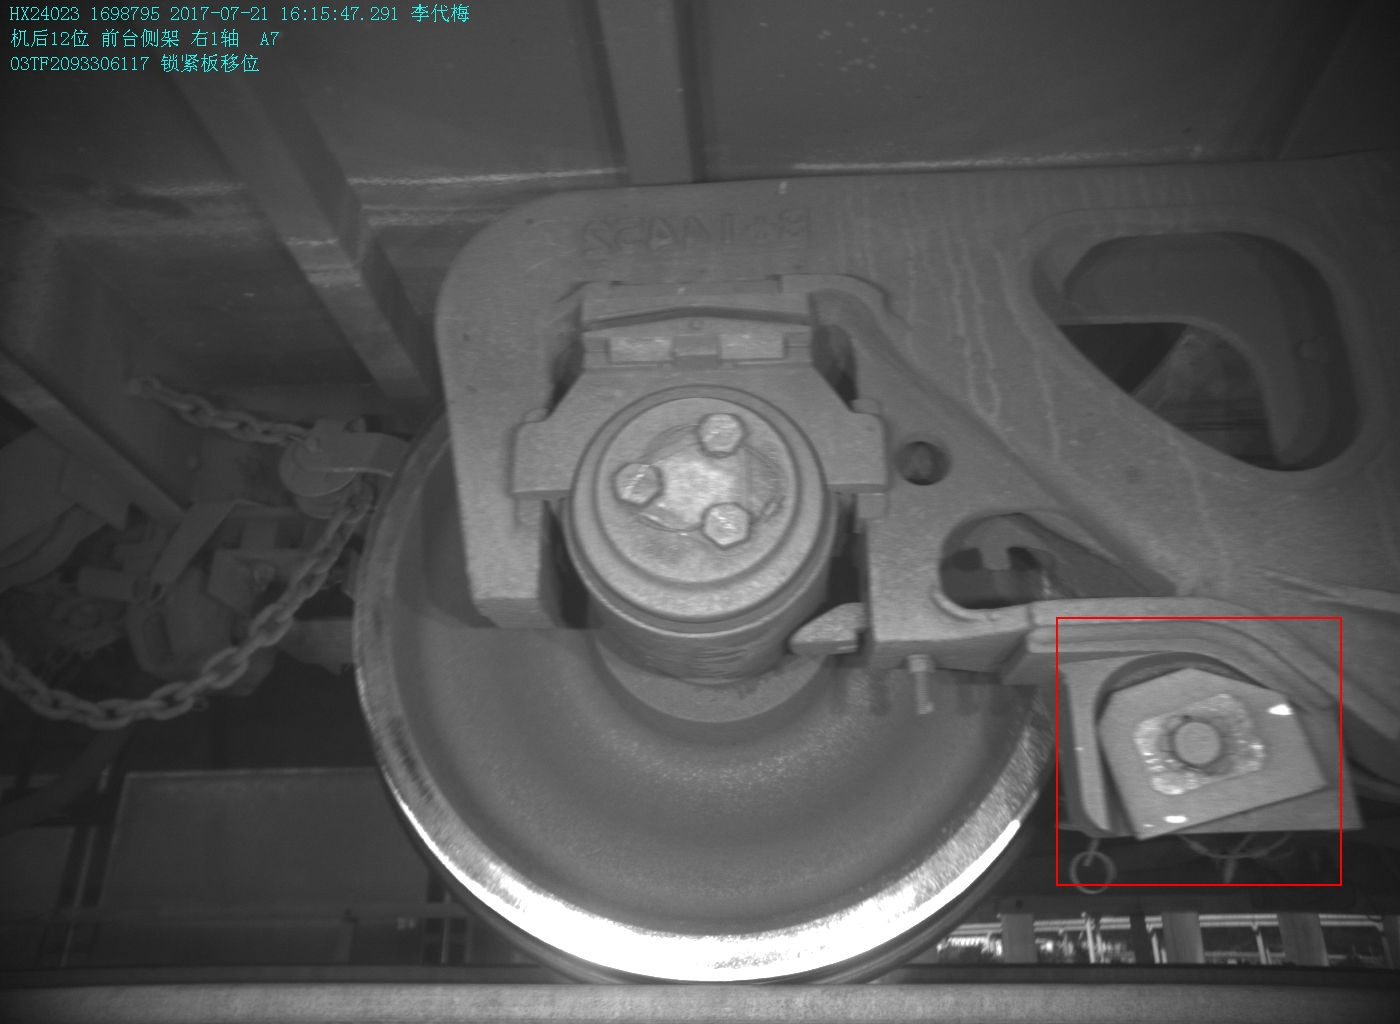Locking plate: (1071, 637, 1364, 841)
